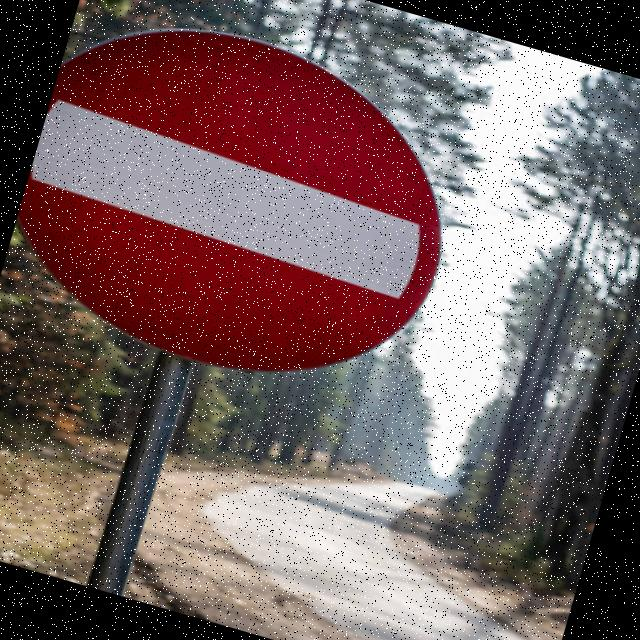do_not_enter: (0, 0, 490, 419)
